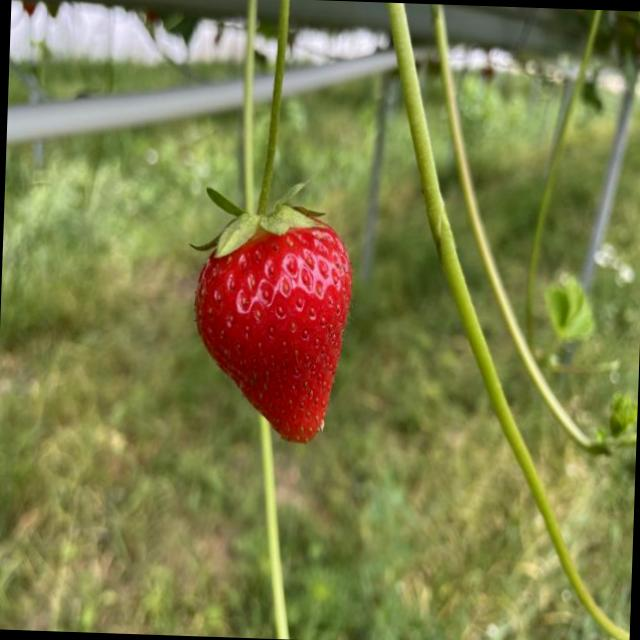stem: (194, 0, 320, 257)
strawberryR: (196, 226, 351, 441)
